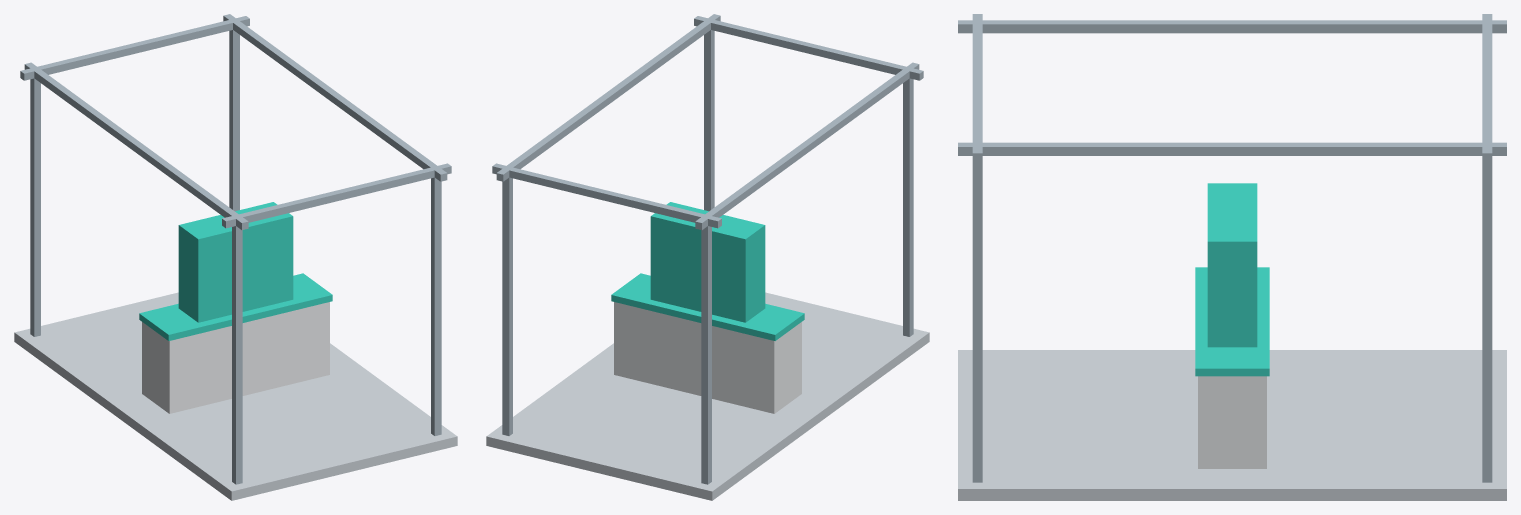
3 renders of one model, left to right at view 1: azimuth 30°, elevation 25°; view 2: azimuth 150°, elevation 25°; view 3: azimuth 270°, elevation 25°, orthographic. The views are drawn at different scales.
Visible parts, largest first — view 1: Exhibition Booth Concept; view 2: Exhibition Booth Concept; view 3: Exhibition Booth Concept.
Boxes of the visible parts, x1,y1,x2,y2 form: Exhibition Booth Concept: (14, 14, 457, 500); Exhibition Booth Concept: (486, 14, 929, 500); Exhibition Booth Concept: (958, 14, 1506, 500).
Bounding box in the file's own units: 3 × 3.49 × 5.
